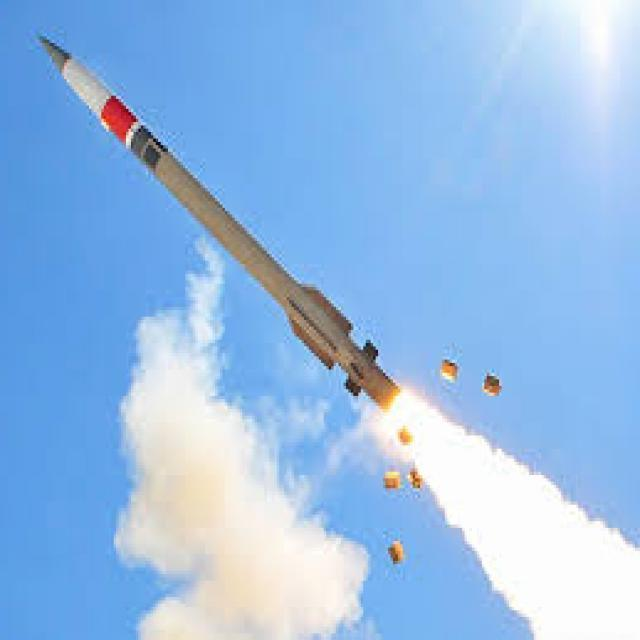missile: (30, 30, 404, 415)
